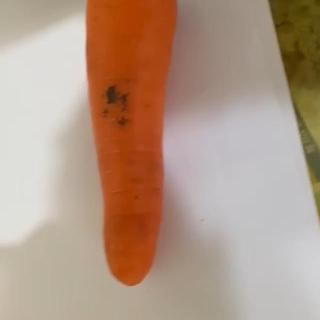carrot: (55, 0, 181, 285)
